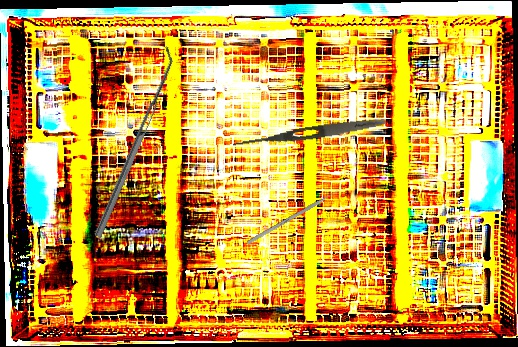Dressing Forceps: (231, 115, 387, 152)
Pusher: (246, 185, 346, 245)
Spatula Surgical: (87, 46, 180, 238)
